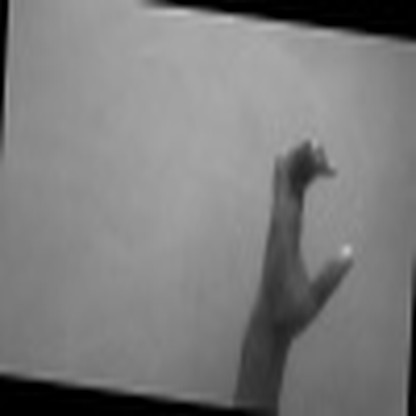c: (262, 127, 362, 330)
